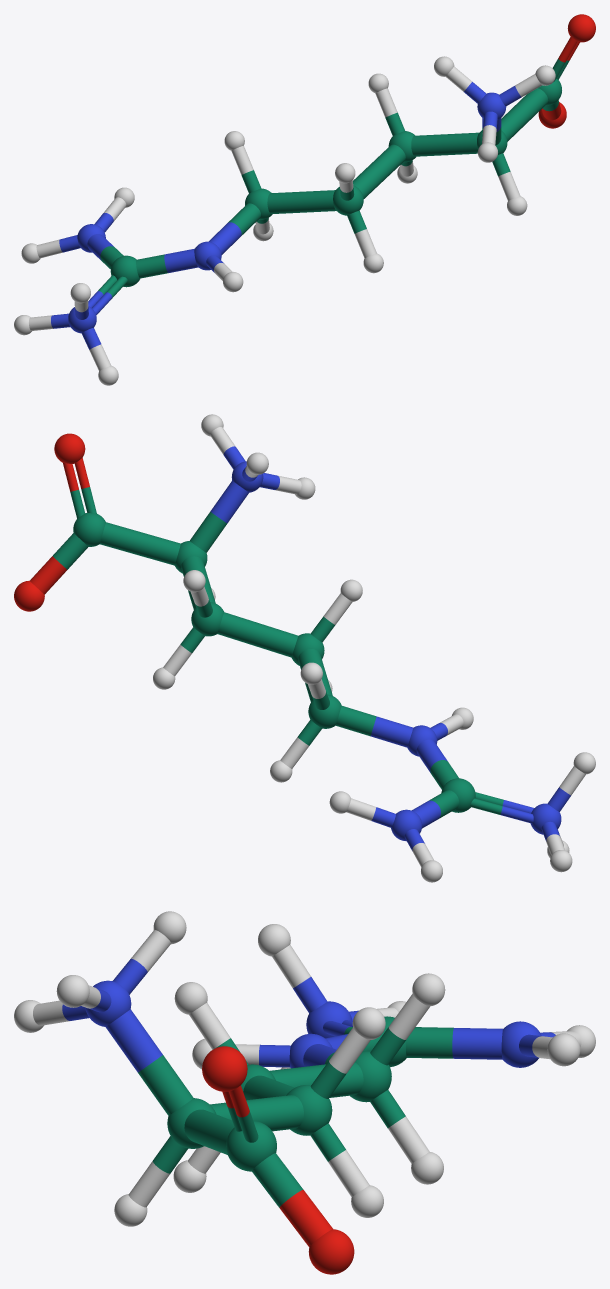
File: ARG.PDB.glb
The picture shows the model from 3 angles, top to bottom: view 1: azimuth 30°, elevation 25°; view 2: azimuth 150°, elevation 25°; view 3: azimuth 270°, elevation 25°; orthographic projection. The views are drawn at different scales.
Size of the model in its own units: 9.86 by 4.91 by 5.82.
